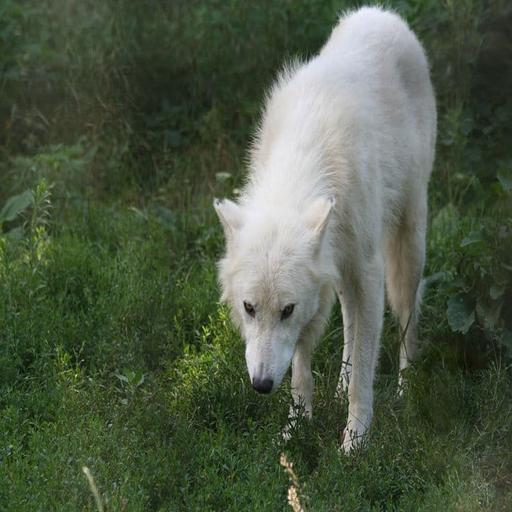Wolf: (212, 1, 444, 462)
